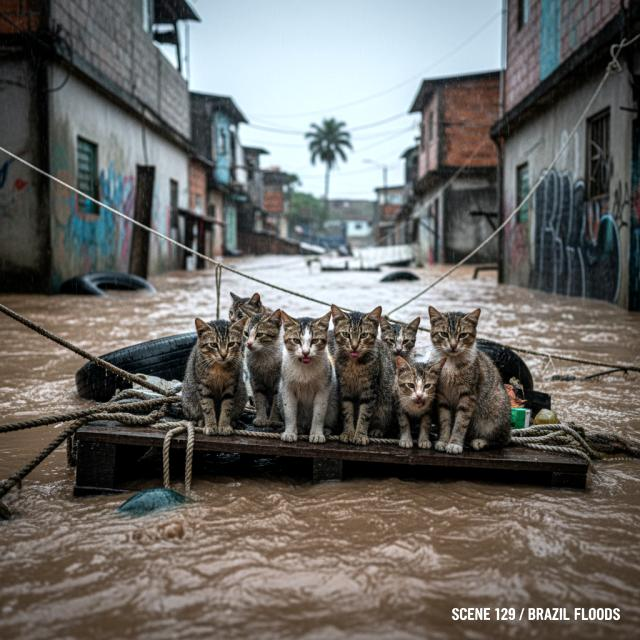cat: (421, 296, 511, 456), (322, 300, 393, 445), (178, 318, 249, 438), (237, 310, 295, 430), (280, 313, 330, 447), (388, 356, 436, 446), (373, 308, 421, 358), (218, 289, 266, 330)
